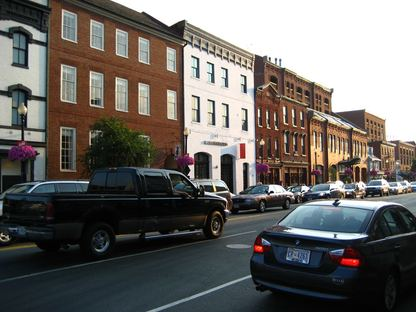car: (248, 199, 414, 307)
truck: (0, 166, 246, 262)
